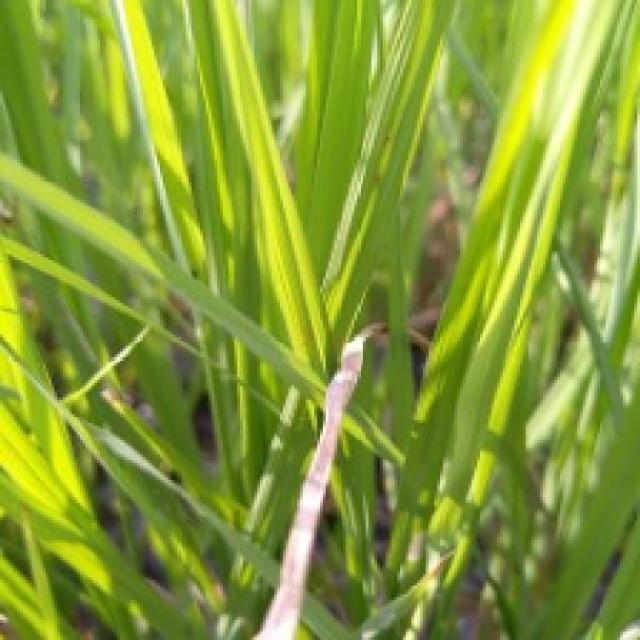Rice___Rice_Blast: (255, 318, 380, 637)
